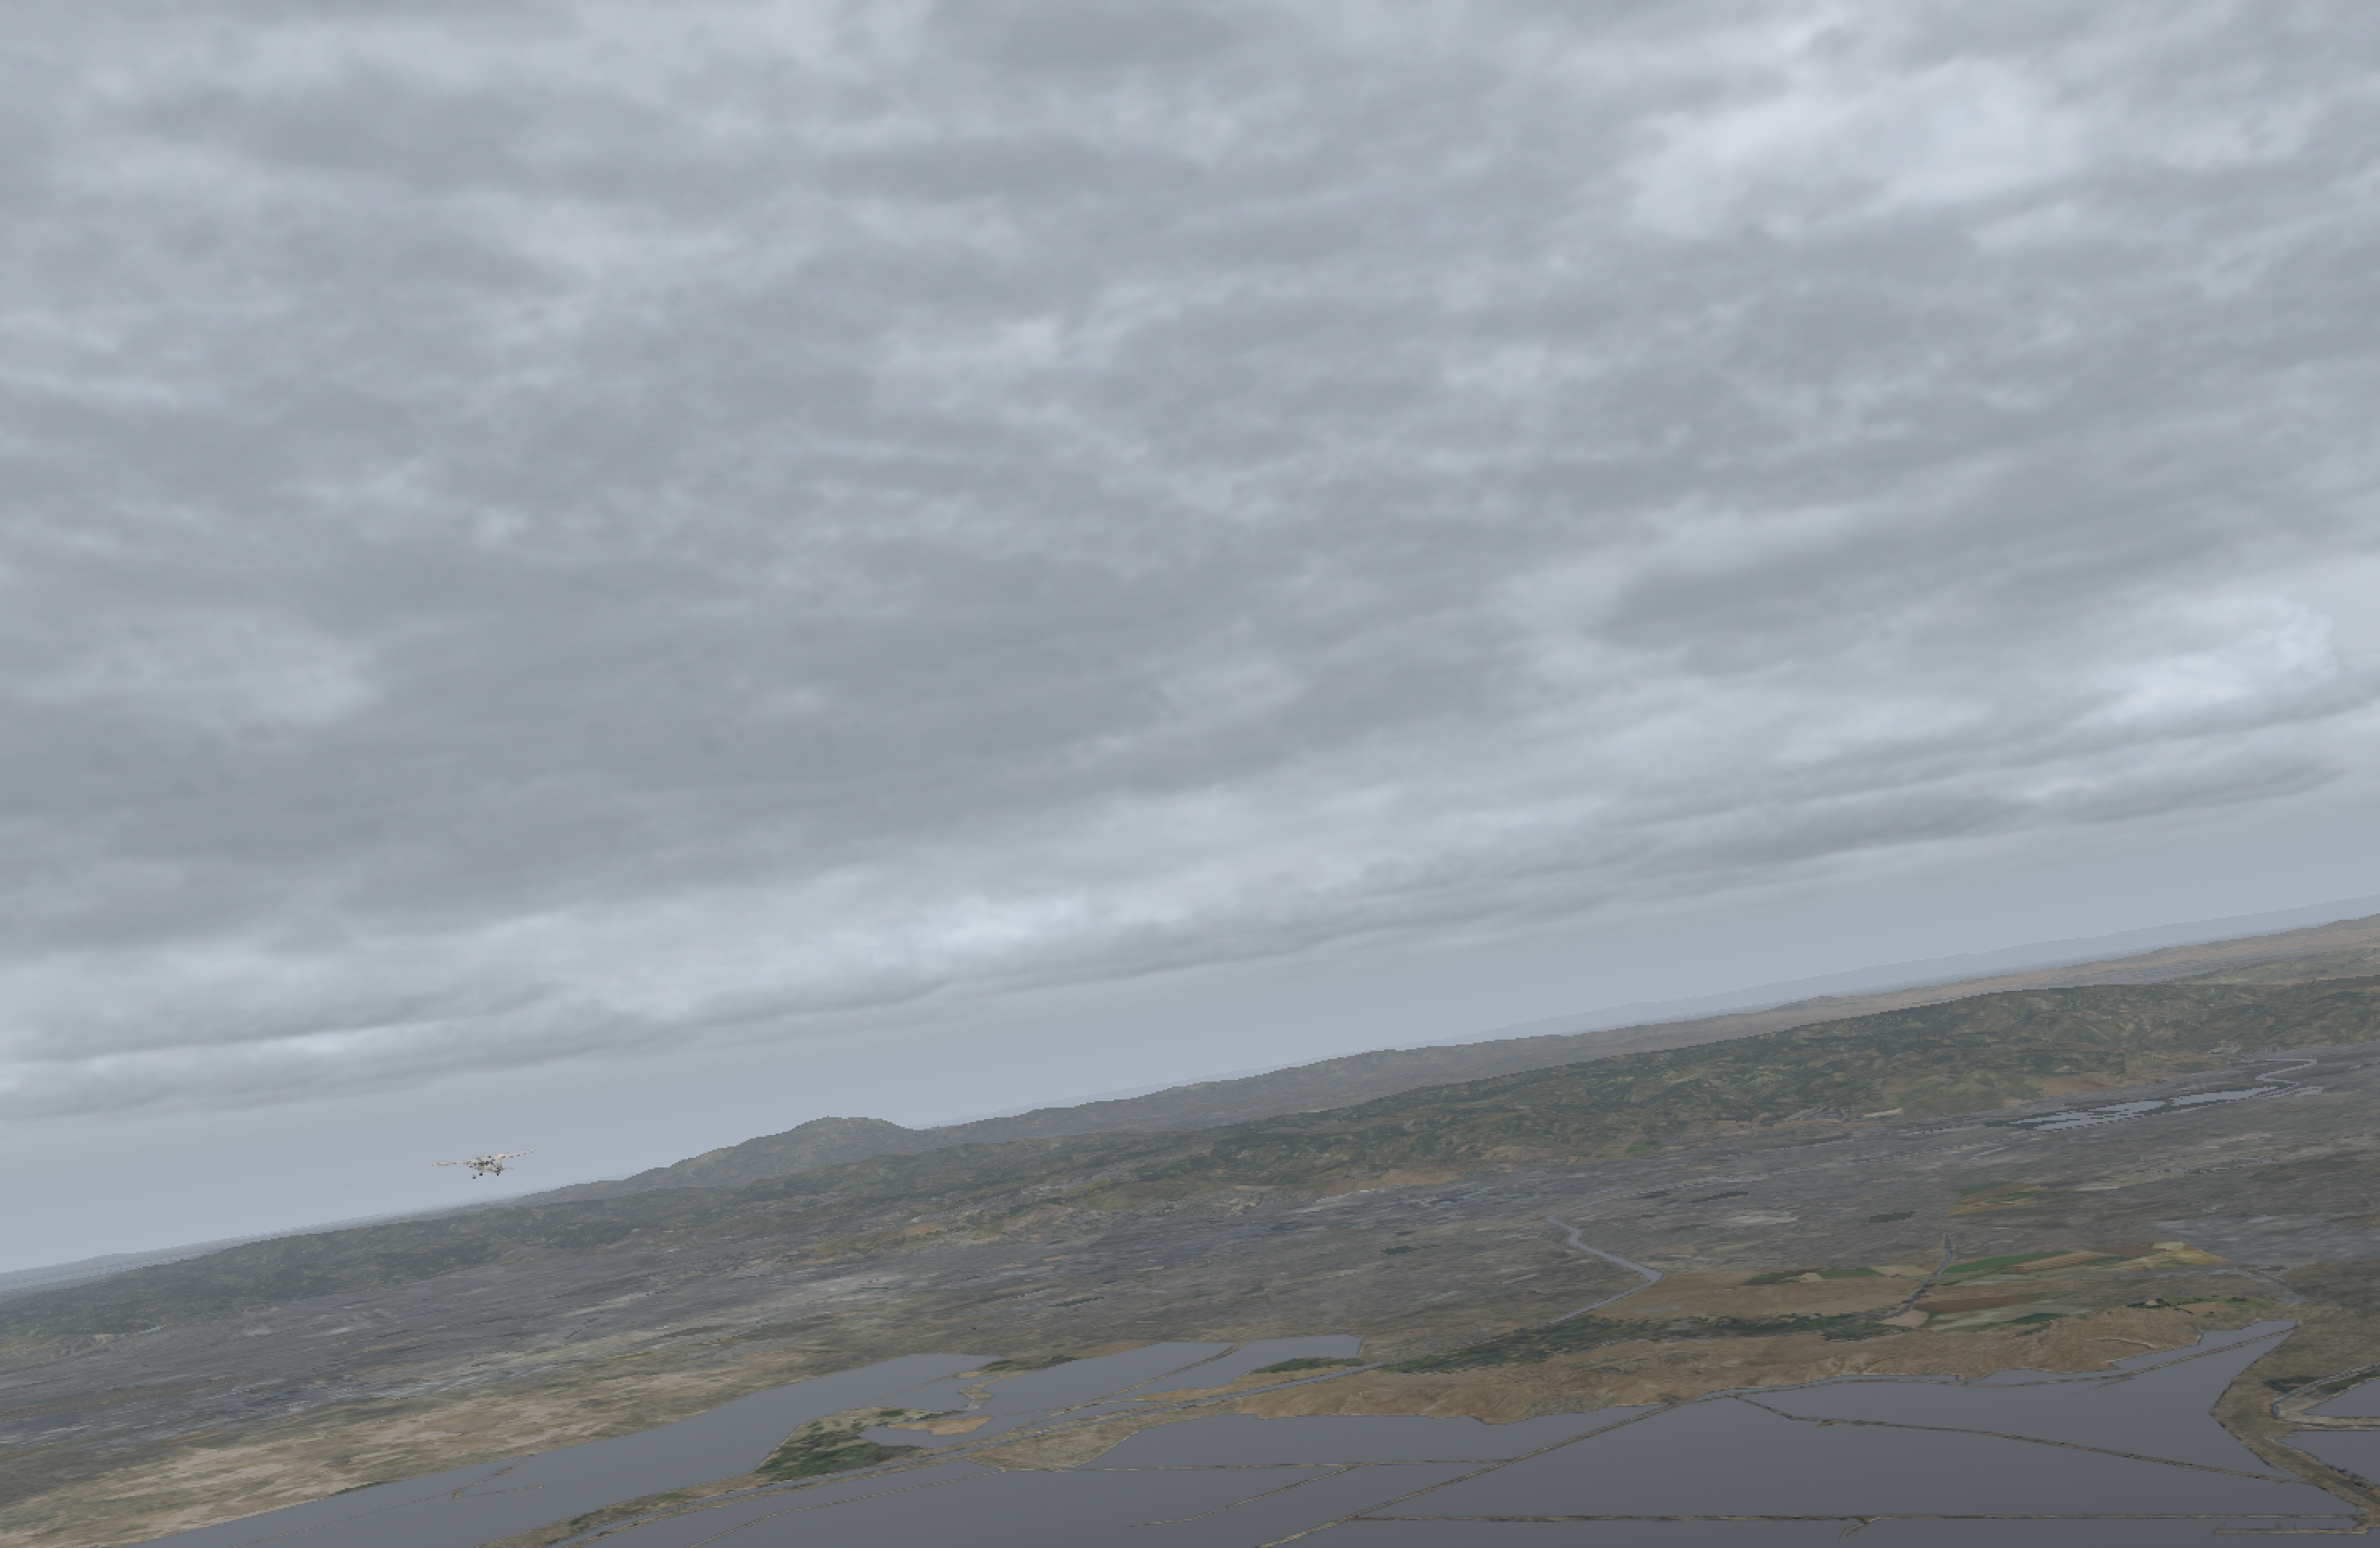aircraft: (451, 1151, 519, 1177)
